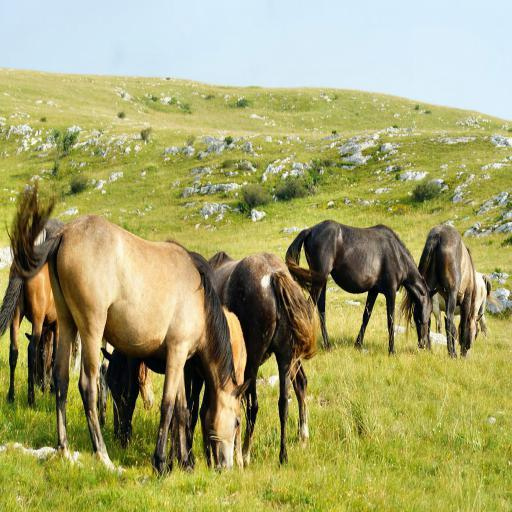horse: (0, 173, 325, 473), (183, 248, 322, 466), (98, 251, 217, 474), (284, 216, 439, 356), (396, 222, 484, 360), (0, 250, 60, 410), (432, 271, 504, 342)
